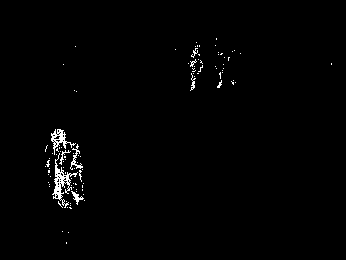person: (42, 128, 87, 211)
